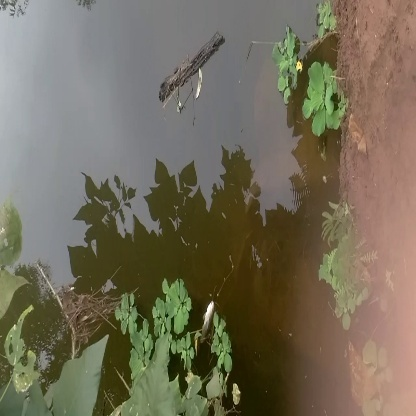branch: (154, 30, 224, 111)
